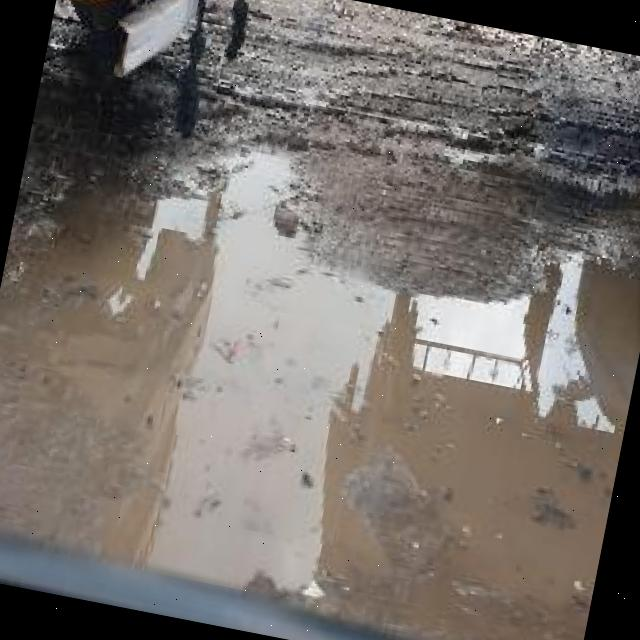stagnation: (0, 129, 640, 640)
